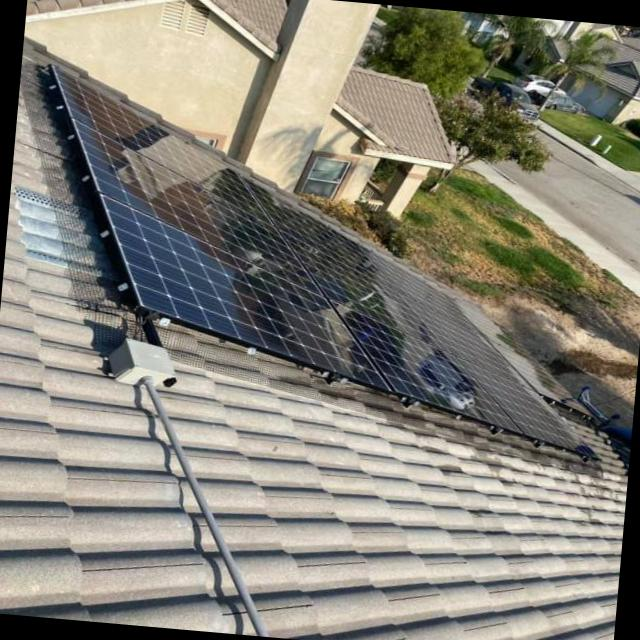no faulty: (56, 71, 393, 393), (243, 179, 521, 434), (367, 250, 596, 460)
